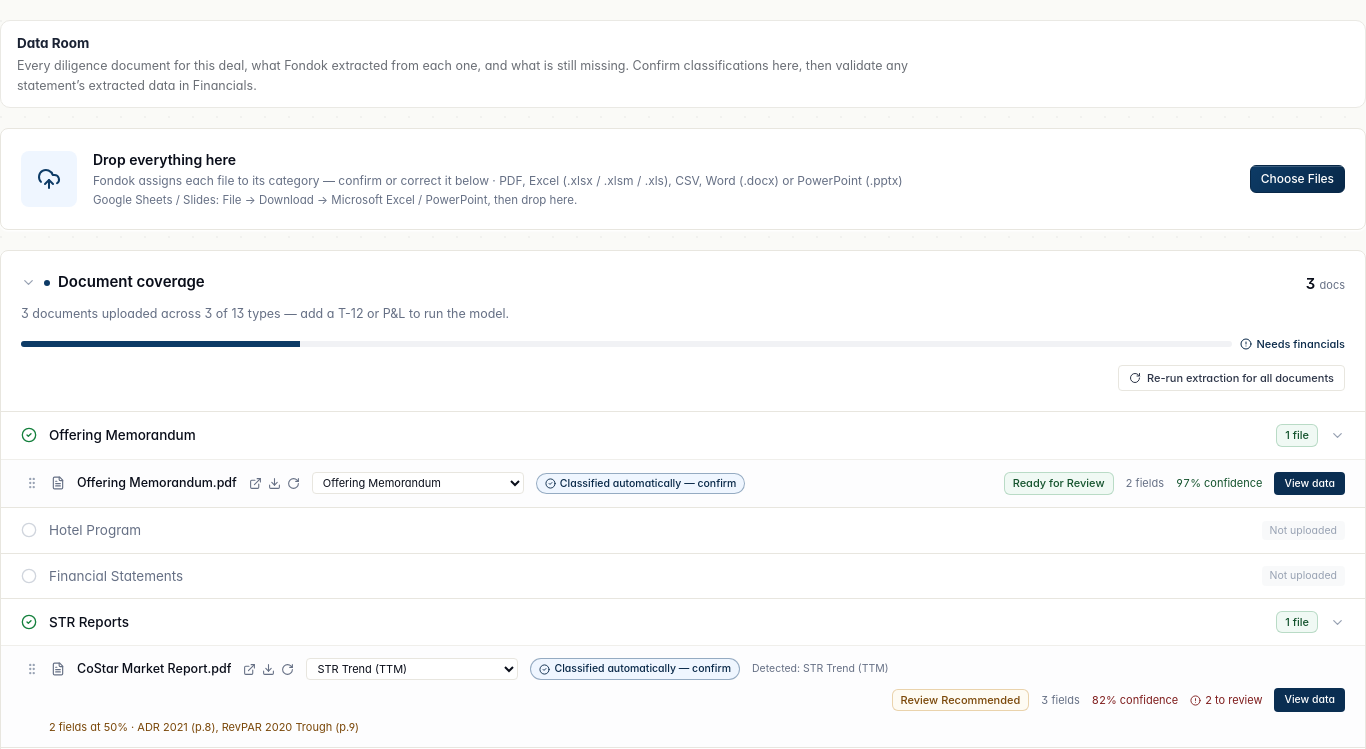
Test: Data Room — click-through to the field view (R-043 / R-042) › STR_TREND: opens the inline review filtered to the flagged fields, with the tag + verbatim source text
Step 1. Click the button "2 fields at 50% · ADR 2021 (p.8), RevPAR 2020 Trough (p.9)" → (204,727), box [49,720,1345,735]
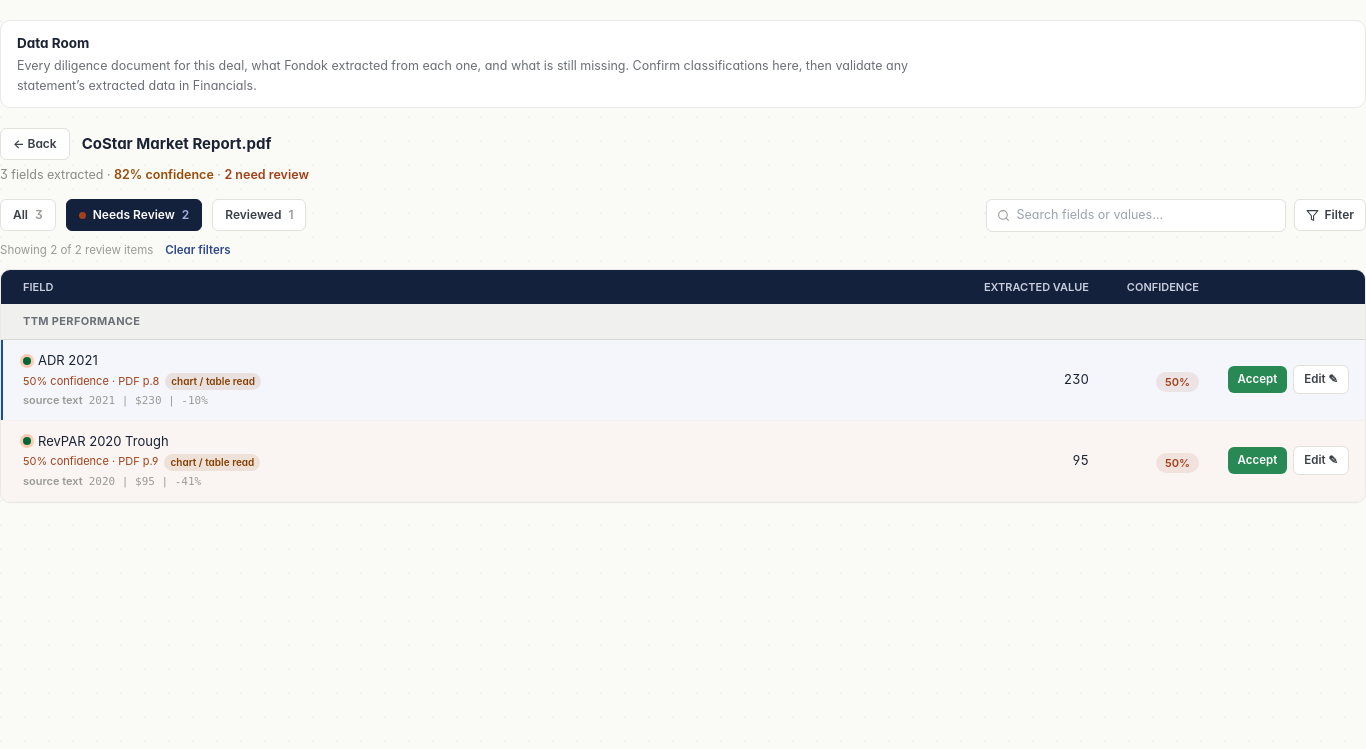
Result: the button "2 need review" is shown at [224,167,309,182]
Result: the text "50% confidence · PDF p.8" is shown at [23,374,159,388]
Result: the text "50% confidence · PDF p.9" is shown at [23,454,158,468]
